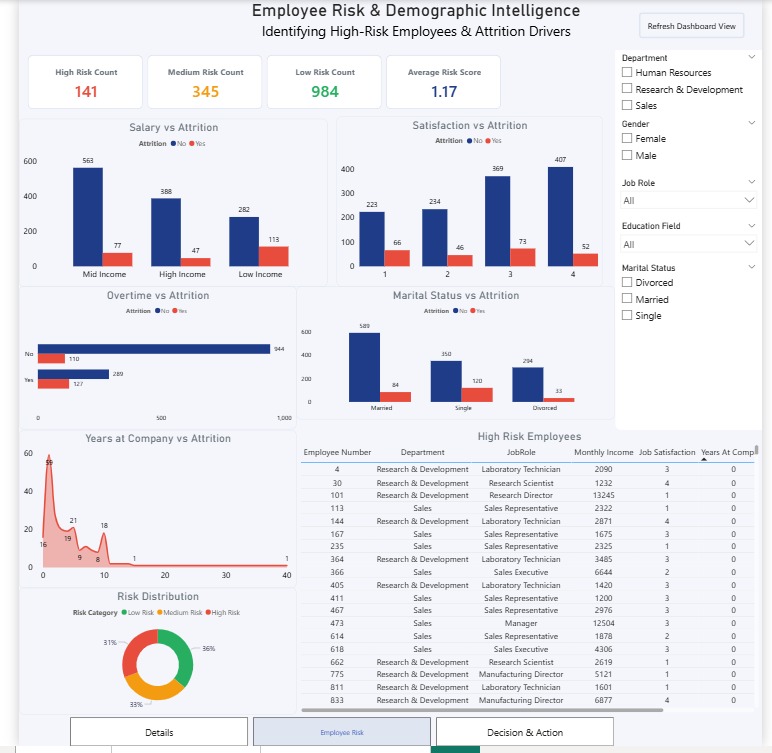

This screenshot's page, from the dashboard's own definition file:
{"tool":"powerbi","page":{"name":"Employee Risk","canvas":[1450,1456],"ordinal":1},"visuals":[{"type":"textbox","title":"Employee Risk & Demographic Intelligence","box":[0,0,1550.1,94.8],"z":0},{"type":"cardVisual","fields":{"Data":["WA_Fn-UseC_-HR-Employee-Attrition.High Risk Count","WA_Fn-UseC_-HR-Employee-Attrition.Medium Risk Count","WA_Fn-UseC_-HR-Employee-Attrition.Low Risk Count","WA_Fn-UseC_-HR-Employee-Attrition.Average Risk Score"]},"box":[0,90.6,959.6,140.7],"z":1000},{"type":"clusteredColumnChart","title":"Salary vs Attrition","fields":{"Series":["WA_Fn-UseC_-HR-Employee-Attrition.Attrition"],"Y":["CountNonNull(WA_Fn-UseC_-HR-Employee-Attrition.EmployeeNumber)"],"Category":["WA_Fn-UseC_-HR-Employee-Attrition.Income Band"]},"box":[0,230.8,602.6,328],"z":2000},{"type":"clusteredBarChart","title":"Overtime vs Attrition","fields":{"Category":["WA_Fn-UseC_-HR-Employee-Attrition.OverTime"],"Y":["CountNonNull(WA_Fn-UseC_-HR-Employee-Attrition.EmployeeNumber)"],"Series":["WA_Fn-UseC_-HR-Employee-Attrition.Attrition"]},"box":[0,558.8,541.8,279.4],"z":3000},{"type":"clusteredColumnChart","title":"Satisfaction vs Attrition","fields":{"Series":["WA_Fn-UseC_-HR-Employee-Attrition.Attrition"],"Y":["CountNonNull(WA_Fn-UseC_-HR-Employee-Attrition.EmployeeNumber)"],"Category":["WA_Fn-UseC_-HR-Employee-Attrition.JobSatisfaction"]},"box":[619.6,226,519.9,332.9],"z":4000},{"type":"clusteredColumnChart","title":"Marital Status vs Attrition","fields":{"Category":["WA_Fn-UseC_-HR-Employee-Attrition.MaritalStatus"],"Y":["CountNonNull(WA_Fn-UseC_-HR-Employee-Attrition.EmployeeNumber)"],"Series":["WA_Fn-UseC_-HR-Employee-Attrition.Attrition"]},"box":[541.8,558.8,622,260],"z":5000},{"type":"shape","box":[1163.7,97.6,385.5,741.7],"z":6000},{"type":"slicer","fields":{"Values":["WA_Fn-UseC_-HR-Employee-Attrition.Department"]},"box":[1163.8,97.2,286.7,133.6],"z":7000},{"type":"slicer","fields":{"Values":["WA_Fn-UseC_-HR-Employee-Attrition.Gender"]},"box":[1163.8,226,286.7,106.9],"z":8000},{"type":"slicer","fields":{"Values":["WA_Fn-UseC_-HR-Employee-Attrition.EducationField"]},"box":[1163.8,427.6,286.7,85],"z":9000},{"type":"slicer","fields":{"Values":["WA_Fn-UseC_-HR-Employee-Attrition.JobRole"]},"box":[1163.8,342.6,286.7,85],"z":10000},{"type":"slicer","fields":{"Values":["WA_Fn-UseC_-HR-Employee-Attrition.MaritalStatus"]},"box":[1163.3,507.8,286.7,133.6],"z":11000},{"type":"actionButton","box":[1210.1,25.1,206.2,50.1],"z":12000},{"type":"pageNavigator","box":[100,1400.4,1063.7,56.1],"z":13000},{"type":"lineChart","title":"Years at Company vs Attrition","fields":{"Category":["WA_Fn-UseC_-HR-Employee-Attrition.YearsAtCompany"],"Y":["WA_Fn-UseC_-HR-Employee-Attrition.Attrition Yes"]},"box":[0,838.2,541.8,308.6],"z":14000},{"type":"donutChart","title":"Risk Distribution","fields":{"Category":["WA_Fn-UseC_-HR-Employee-Attrition.Risk Category"],"Y":["CountNonNull(WA_Fn-UseC_-HR-Employee-Attrition.EmployeeNumber)"]},"box":[0,1146.8,541.8,247.8],"z":15000},{"type":"tableEx","title":"High Risk Employees","fields":{"Values":["WA_Fn-UseC_-HR-Employee-Attrition.EmployeeNumber","WA_Fn-UseC_-HR-Employee-Attrition.Department","WA_Fn-UseC_-HR-Employee-Attrition.JobRole","WA_Fn-UseC_-HR-Employee-Attrition.MonthlyIncome","WA_Fn-UseC_-HR-Employee-Attrition.JobSatisfaction","WA_Fn-UseC_-HR-Employee-Attrition.YearsAtCompany","WA_Fn-UseC_-HR-Employee-Attrition.Risk Score","WA_Fn-UseC_-HR-Employee-Attrition.Risk Category"]},"box":[544.1,839.3,905.1,556.2],"z":16000}]}

Visuals, with their boxes in screenshot pixels (x1, y1, x2, y2), scaled from the page's 1450x1456 canvas onto the 772x753 screenshot:
"Employee Risk & Demographic Intelligence" textbox: [x1=0, y1=0, x2=771, y2=49]
cardVisual - WA_Fn-UseC_-HR-Employee-Attrition.High Risk Count x WA_Fn-UseC_-HR-Employee-Attrition.Medium Risk Count: [x1=0, y1=47, x2=511, y2=120]
"Salary vs Attrition" clusteredColumnChart: [x1=0, y1=119, x2=321, y2=289]
"Overtime vs Attrition" clusteredBarChart: [x1=0, y1=289, x2=288, y2=433]
"Satisfaction vs Attrition" clusteredColumnChart: [x1=330, y1=117, x2=607, y2=289]
"Marital Status vs Attrition" clusteredColumnChart: [x1=288, y1=289, x2=620, y2=423]
shape: [x1=620, y1=50, x2=771, y2=434]
slicer - WA_Fn-UseC_-HR-Employee-Attrition.Department: [x1=620, y1=50, x2=771, y2=119]
slicer - WA_Fn-UseC_-HR-Employee-Attrition.Gender: [x1=620, y1=117, x2=771, y2=172]
slicer - WA_Fn-UseC_-HR-Employee-Attrition.EducationField: [x1=620, y1=221, x2=771, y2=265]
slicer - WA_Fn-UseC_-HR-Employee-Attrition.JobRole: [x1=620, y1=177, x2=771, y2=221]
slicer - WA_Fn-UseC_-HR-Employee-Attrition.MaritalStatus: [x1=619, y1=263, x2=771, y2=332]
actionButton: [x1=644, y1=13, x2=754, y2=39]
pageNavigator: [x1=53, y1=724, x2=620, y2=752]
"Years at Company vs Attrition" lineChart: [x1=0, y1=433, x2=288, y2=593]
"Risk Distribution" donutChart: [x1=0, y1=593, x2=288, y2=721]
"High Risk Employees" tableEx: [x1=290, y1=434, x2=771, y2=722]
